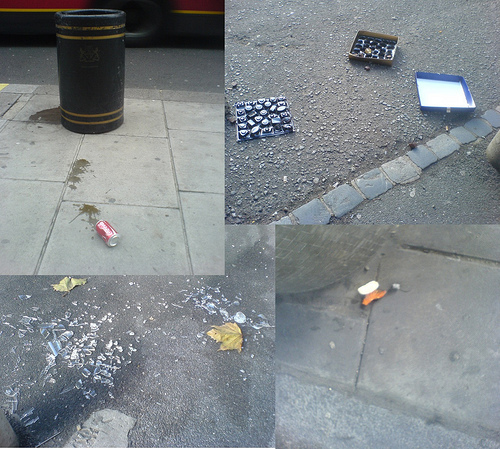litter: (413, 69, 477, 114), (233, 96, 293, 142), (347, 29, 401, 62), (358, 278, 384, 306), (94, 219, 120, 246)
